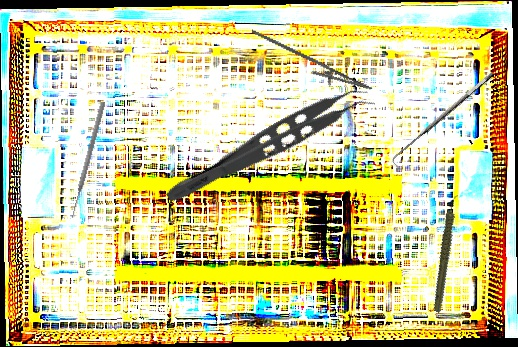Handpiece: (409, 193, 485, 314)
Hook Surgical: (386, 70, 502, 171)
Needle Holder: (242, 29, 378, 100)
Pusher: (68, 101, 107, 220)
Tissue Forceps: (162, 75, 378, 221)
